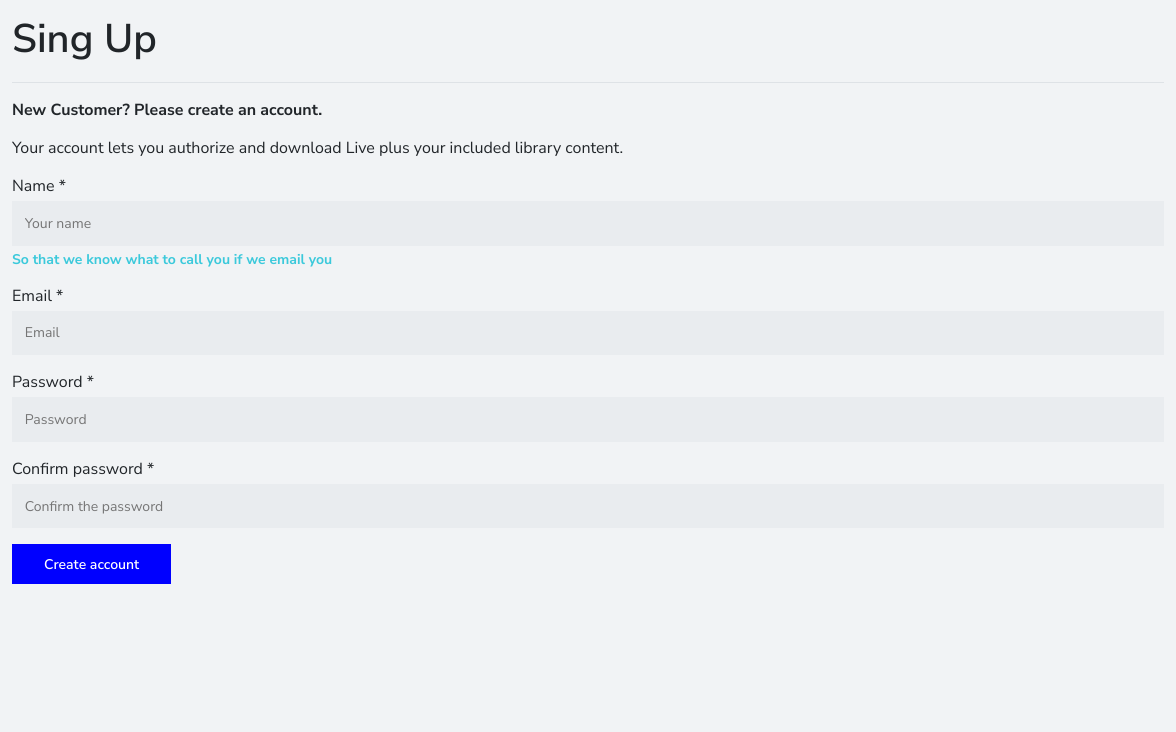
Test: SIGN UP TEST › Not equal password
Expected: the text "Passwords don't match. Try again!" is not shown
Type "123456" into the password field labelled "Password *".
click(588, 420); type("123456")  # box [12,397,1164,442]
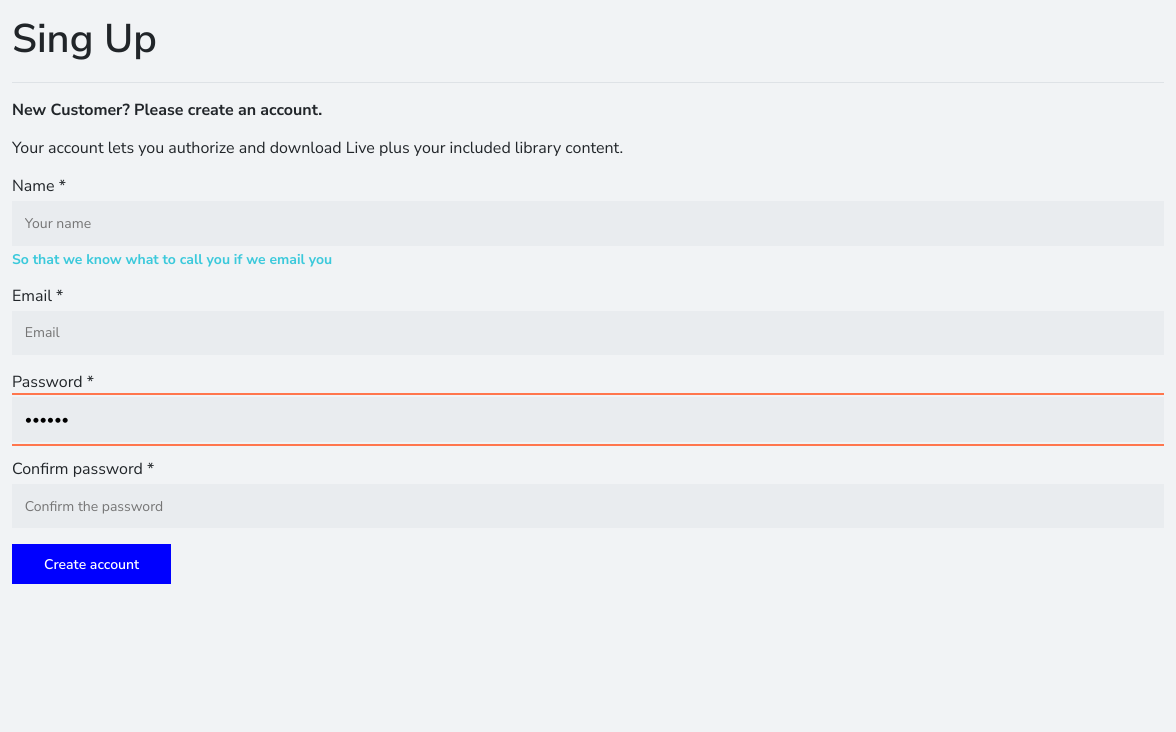
Type "12345" into the password field labelled "Confirm password *".
click(588, 506); type("12345")  # box [12,484,1164,528]
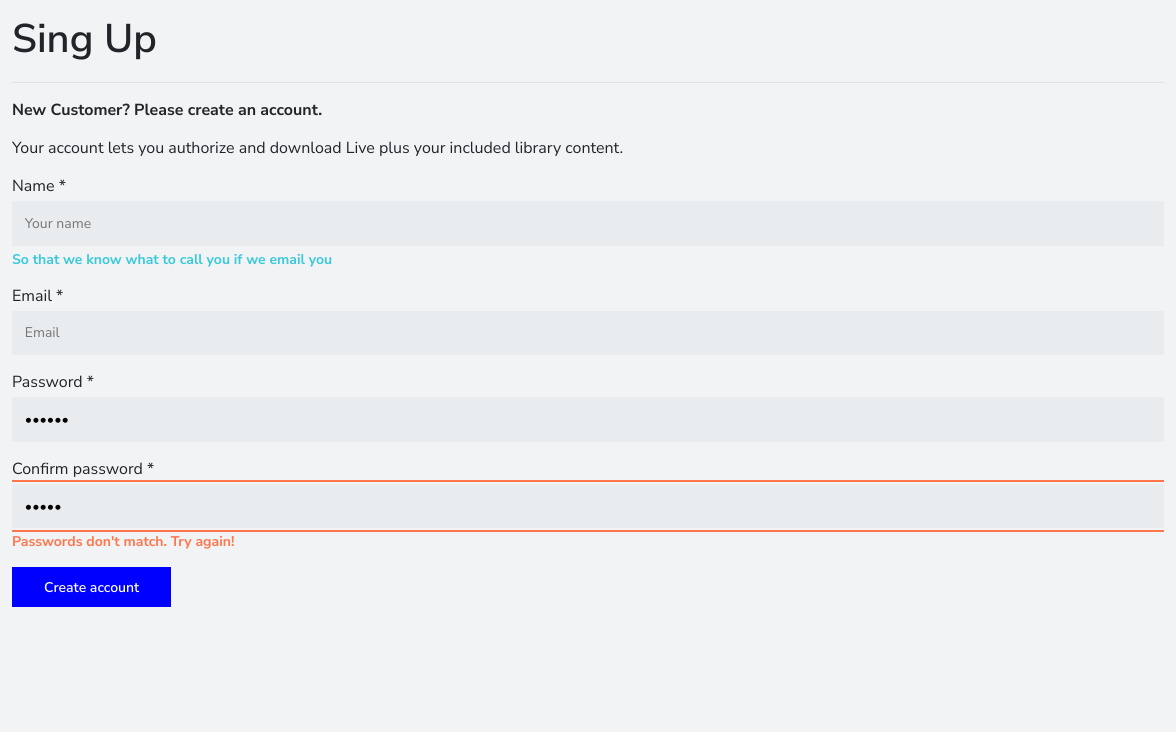
Result: the text "Passwords don't match. Try again!" is shown at [12,532,234,551]
